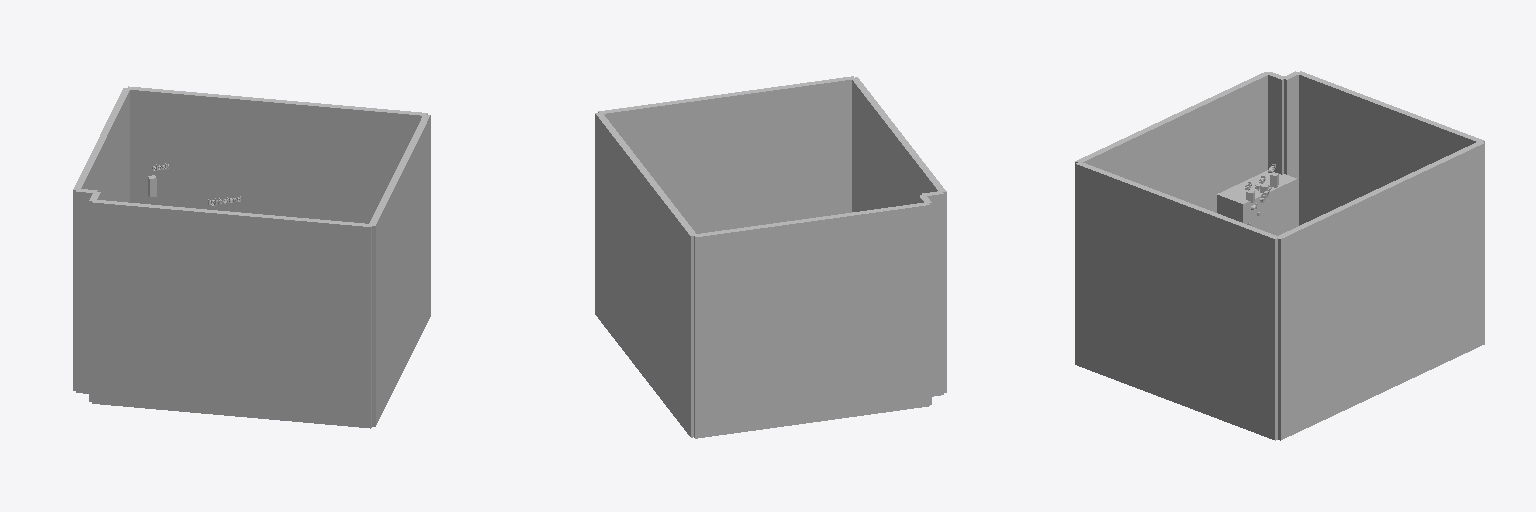
The model's file is livingroom_semantic.obj.
3 renders of one model, left to right at view 1: azimuth 30°, elevation 25°; view 2: azimuth 150°, elevation 25°; view 3: azimuth 270°, elevation 25°, orthographic.
Parts seen in each view (by area): view 1: Node_1, Node_0, Node_5, Node_2, Node_4, Node_3; view 2: Node_2, Node_5, Node_0, Node_1, Node_3; view 3: Node_0, Node_5, Node_2, Node_1, Node_10, Node_4, Node_3.
Boxes of the visible parts, <box> form: Node_1: <box>92,200,371,428</box>; Node_0: <box>127,86,427,223</box>; Node_5: <box>369,115,430,426</box>; Node_2: <box>73,88,130,390</box>; Node_4: <box>76,189,97,393</box>; Node_3: <box>89,192,100,401</box>; Node_2: <box>694,202,929,438</box>; Node_5: <box>598,76,854,233</box>; Node_0: <box>595,113,695,437</box>; Node_1: <box>852,77,946,392</box>; Node_3: <box>921,191,943,396</box>; Node_0: <box>1277,141,1484,440</box>; Node_5: <box>1075,163,1277,440</box>; Node_2: <box>1296,71,1484,225</box>; Node_1: <box>1075,72,1269,212</box>; Node_10: <box>1217,170,1296,235</box>; Node_4: <box>1282,71,1298,226</box>; Node_3: <box>1268,72,1284,174</box>.
Size of the model in its own units: 5.43 by 3.03 by 5.59.